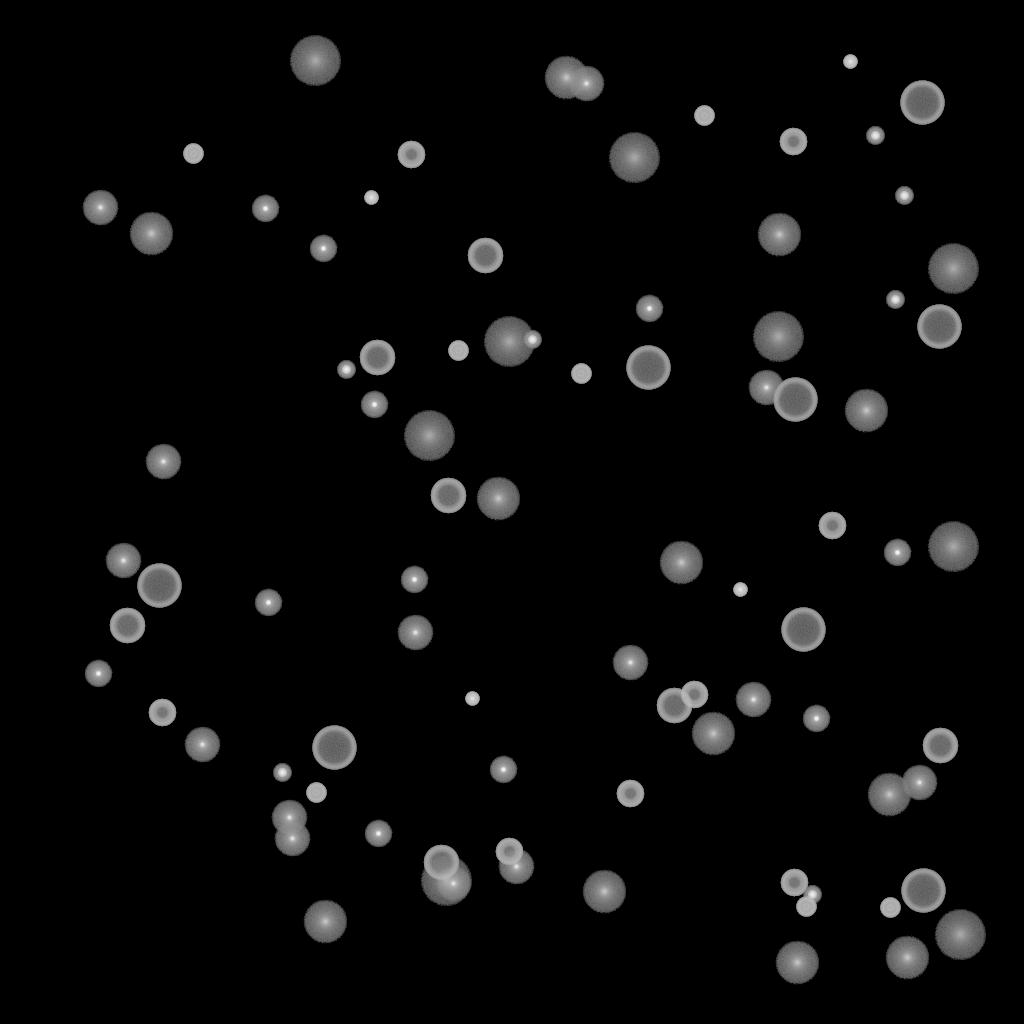depth:-10: (309, 235, 337, 263), (84, 660, 112, 688), (635, 295, 663, 323), (489, 756, 517, 784), (802, 705, 830, 733), (400, 566, 428, 594), (364, 820, 392, 848), (251, 195, 279, 223), (883, 539, 911, 567), (254, 589, 282, 617), (360, 391, 388, 419)
depth:-20: (273, 764, 291, 782), (866, 127, 884, 145), (803, 886, 821, 904), (886, 291, 904, 309), (523, 331, 541, 349), (337, 361, 355, 379), (895, 187, 913, 205)
depth:-30: (733, 583, 747, 597), (465, 692, 479, 706), (364, 191, 378, 205), (843, 55, 857, 69)
depth:-40: (448, 341, 468, 361), (694, 106, 714, 126), (571, 364, 591, 384), (306, 783, 326, 803), (796, 897, 816, 917), (183, 144, 203, 164), (880, 898, 900, 918)
depth:-50: (397, 141, 425, 169), (780, 869, 808, 897), (148, 699, 176, 727), (779, 128, 807, 156), (818, 512, 846, 540), (680, 681, 708, 709), (495, 838, 523, 866), (616, 780, 644, 808)
depth:-60: (656, 688, 692, 724), (430, 478, 466, 514), (359, 340, 395, 376), (922, 728, 958, 764), (109, 608, 145, 644), (467, 238, 503, 274), (423, 845, 459, 881)
depth:-70: (626, 346, 670, 390), (137, 564, 181, 608), (312, 726, 356, 770), (900, 81, 944, 125), (773, 378, 817, 422), (917, 305, 961, 349), (901, 869, 945, 913), (781, 608, 825, 652)
depth:0: (184, 727, 220, 763), (735, 682, 771, 718), (901, 765, 937, 801), (397, 615, 433, 651), (435, 866, 471, 902), (274, 821, 310, 857), (105, 543, 141, 579), (271, 800, 307, 836), (82, 190, 118, 226), (498, 849, 534, 885), (145, 444, 181, 480), (748, 370, 784, 406), (568, 66, 604, 102), (612, 645, 648, 681)
depth:10: (757, 213, 801, 257), (476, 477, 520, 521), (844, 389, 888, 433), (303, 900, 347, 944), (867, 773, 911, 817), (885, 936, 929, 980), (691, 712, 735, 756), (659, 541, 703, 585), (544, 56, 588, 100), (129, 212, 173, 256), (775, 941, 819, 985), (582, 870, 626, 914)
depth:20: (289, 36, 341, 86), (752, 312, 804, 362), (420, 856, 472, 906), (934, 910, 986, 960), (927, 522, 979, 572), (608, 133, 660, 183), (483, 317, 535, 367), (927, 244, 979, 294), (403, 411, 455, 461)
